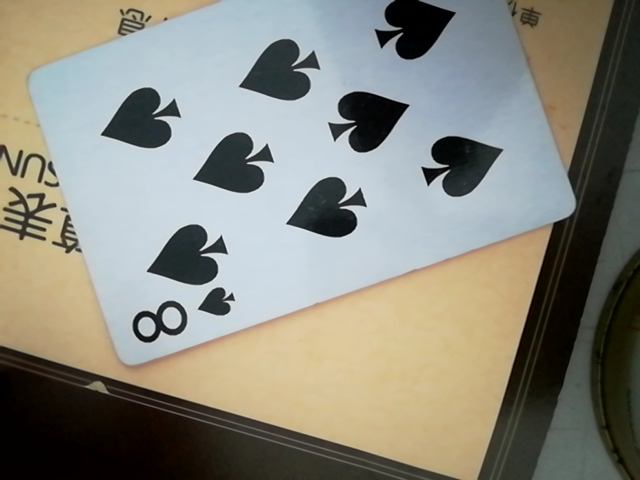ht 8: (25, 2, 583, 373)
